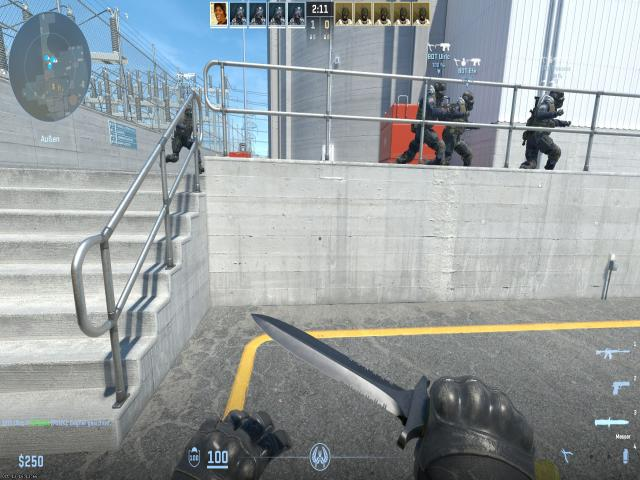CT: (408, 72, 448, 167), (524, 84, 564, 170), (442, 85, 476, 164), (171, 98, 201, 163)
CT-Head: (462, 89, 476, 110), (434, 78, 448, 99), (549, 89, 565, 104), (183, 101, 194, 120)
